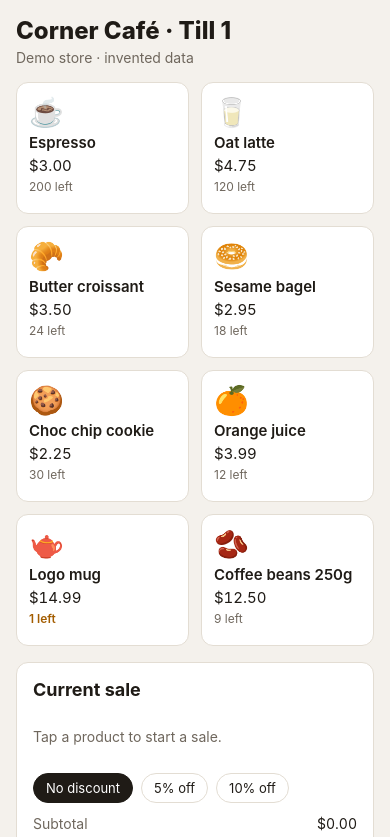
Test: <PosScreen> › disables sold-out products, counting what is already in the cart
Click the button with aria-label "Add Logo mug" at x=102, y=580, box [16,514,189,646]
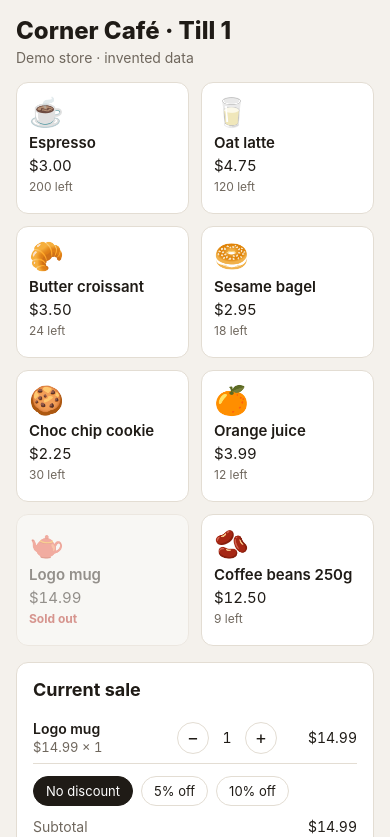
Result: the button with test id "product-MER-MUG" is disabled at [16,514,189,646]
Result: the text "Sold out" is shown at [29,611,77,626]
